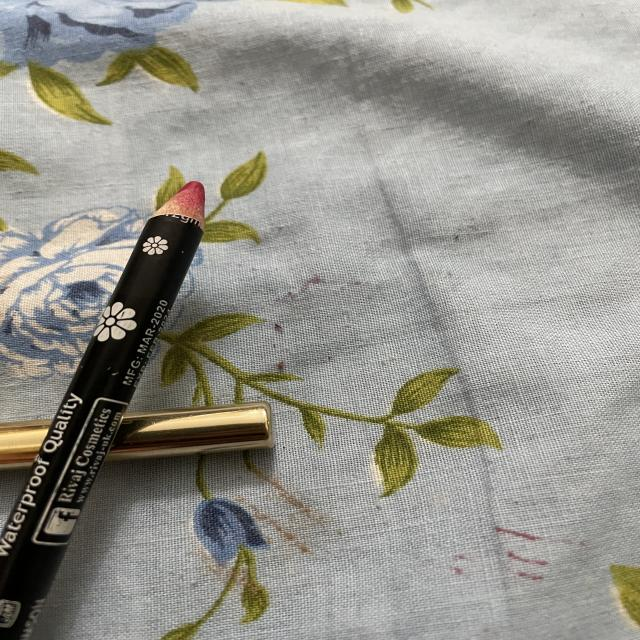lip liner: (0, 165, 242, 640)
